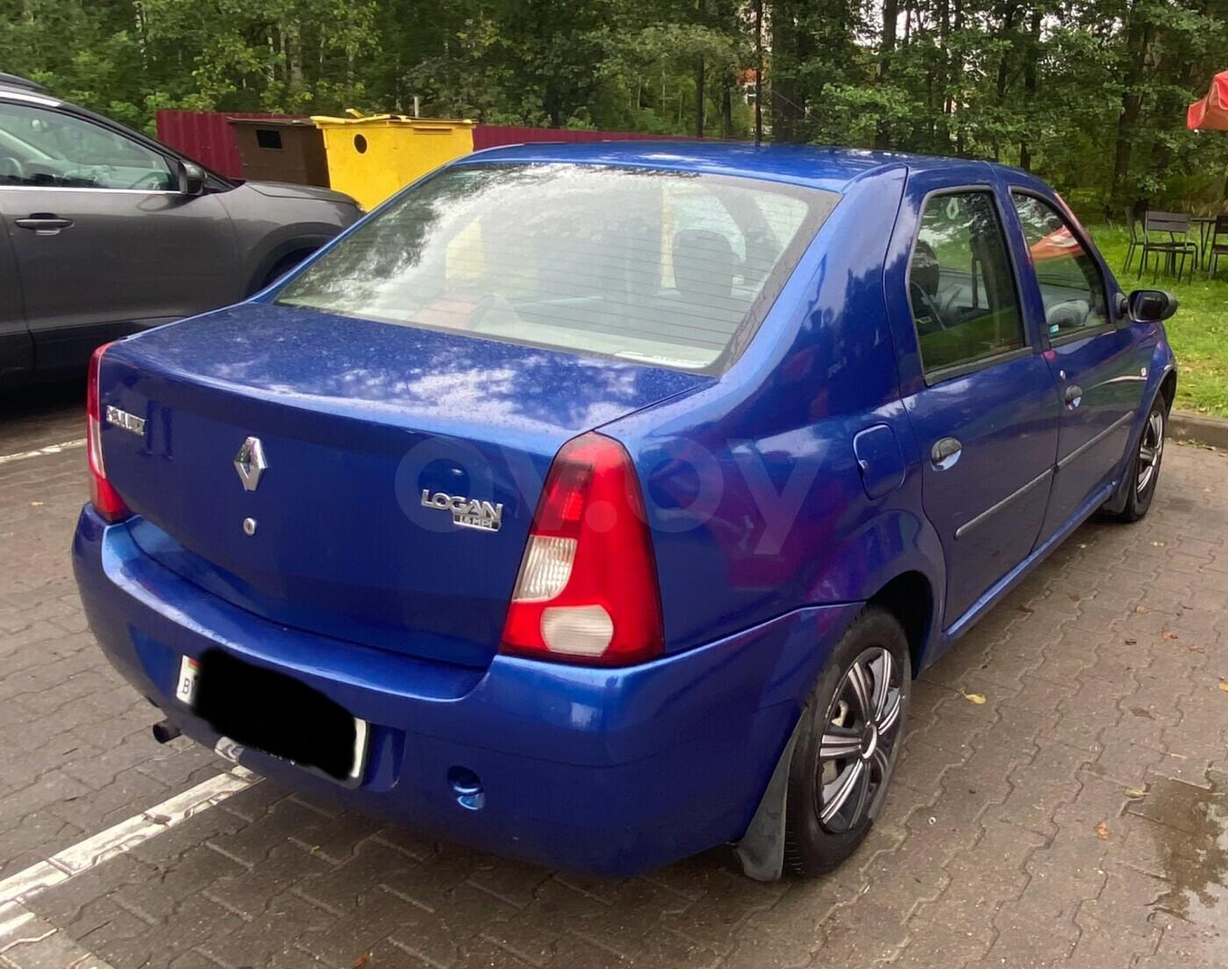Logan_2004-2009: (50, 132, 1178, 883)
